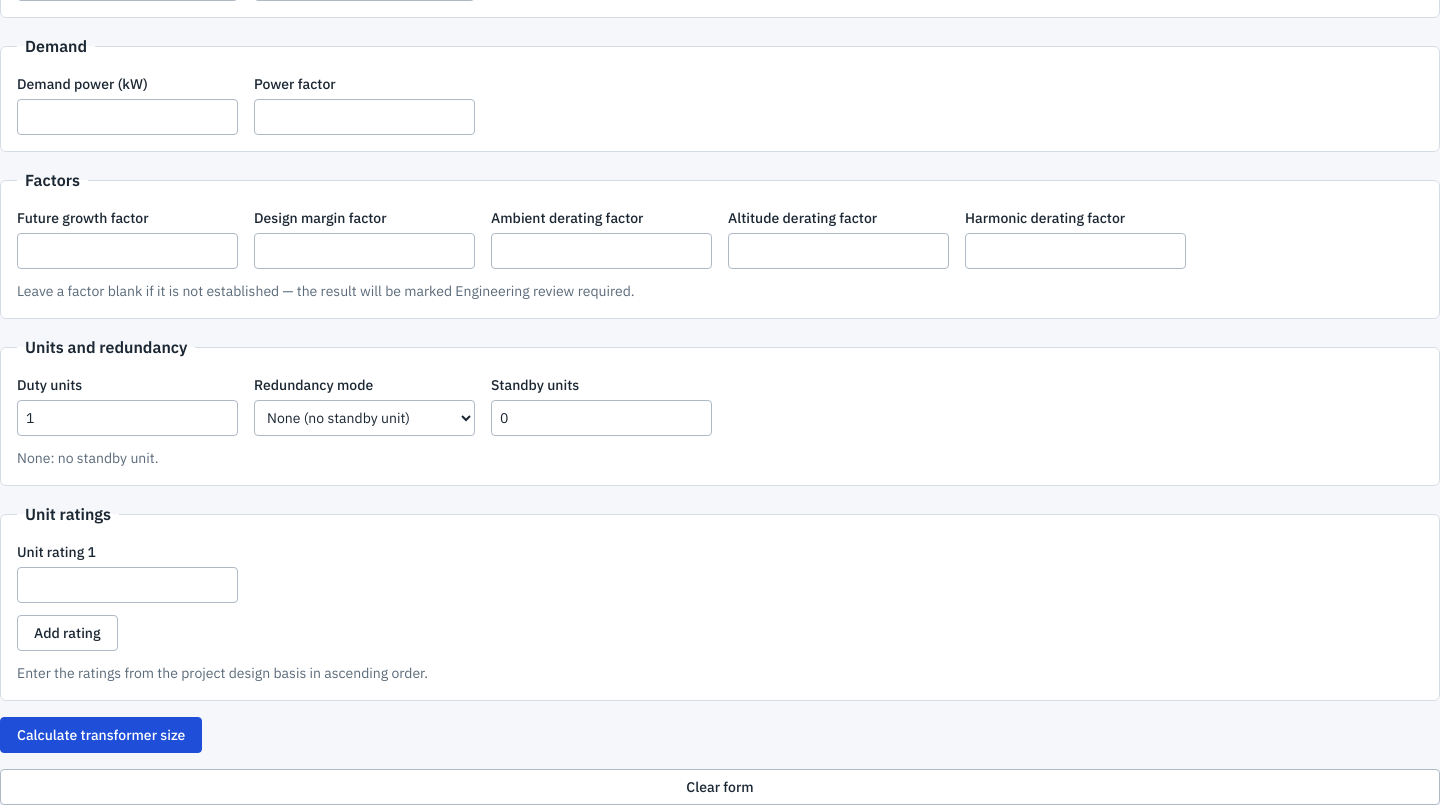
Test case: TransformerStudyForm › removes the entry the button names and hides Remove at one entry
This screenshot has width=1440, height=805.
(page scrolled)
Click the button "Add rating" at [67, 633], box [17,615,118,651]
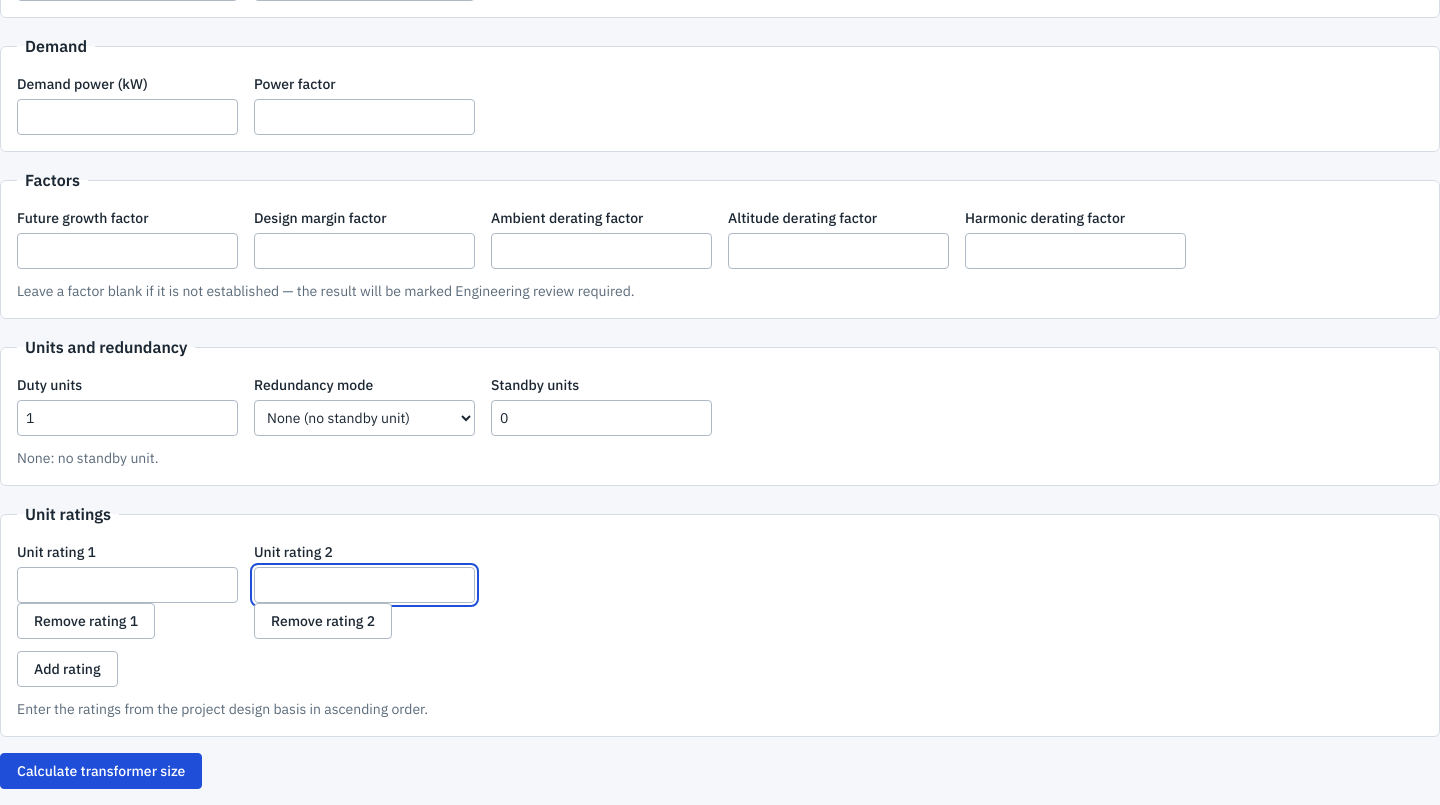
Type "FIRST" into the field labelled "Unit rating 1" at [128, 585], box [17,567,238,603]
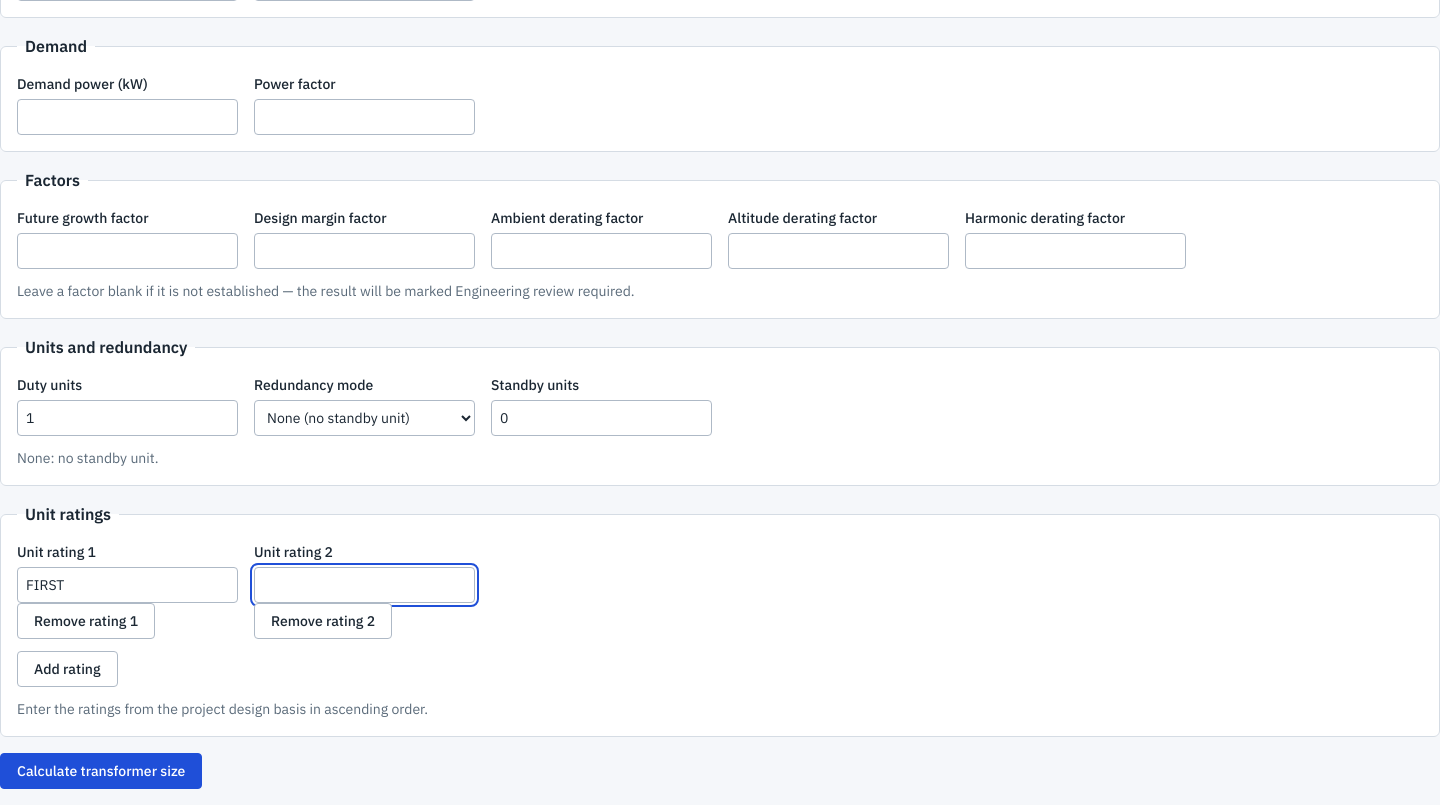
Type "SECOND" into the field labelled "Unit rating 2" at [364, 585], box [254,567,475,603]
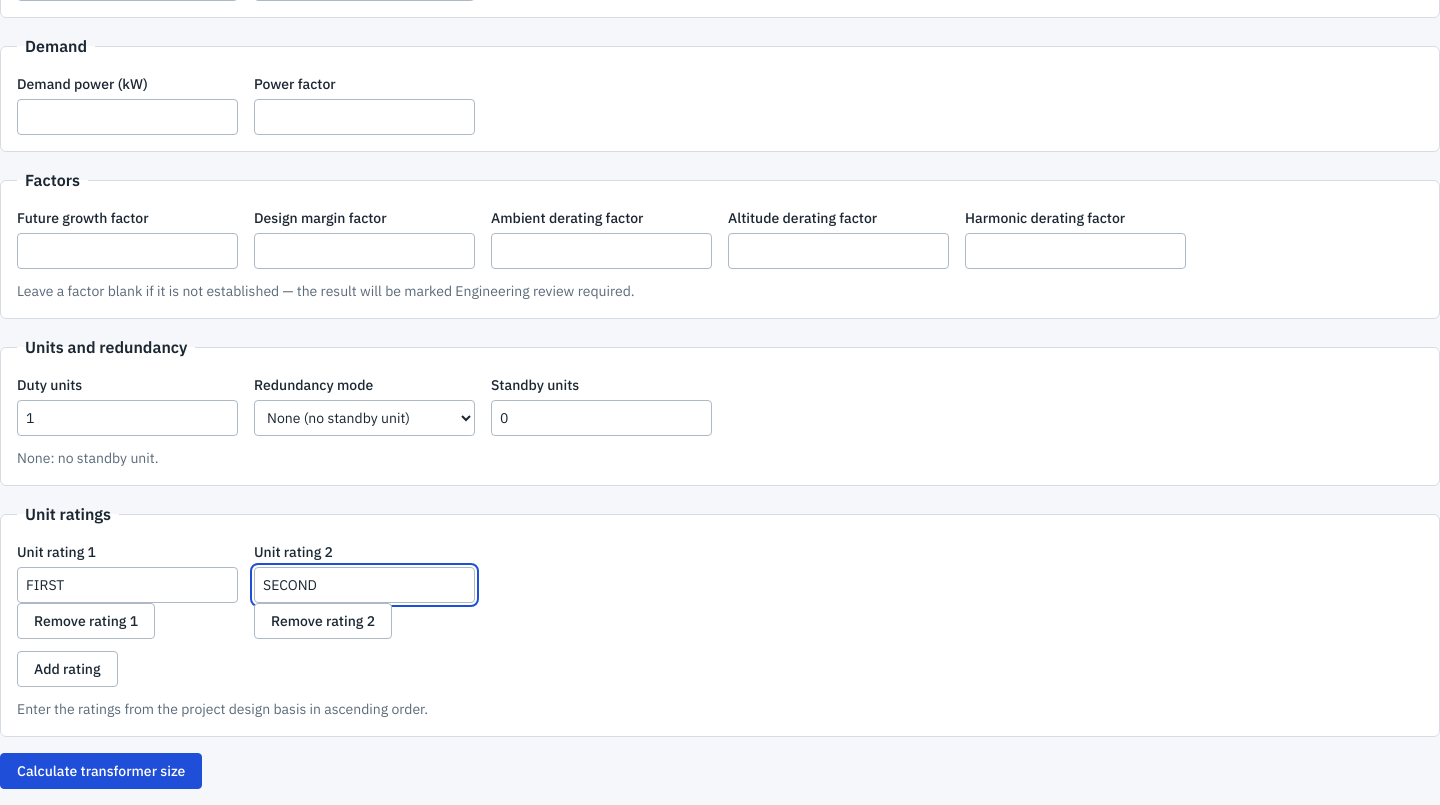
Click the button "Remove rating 1" at [86, 621], box [17,603,155,639]
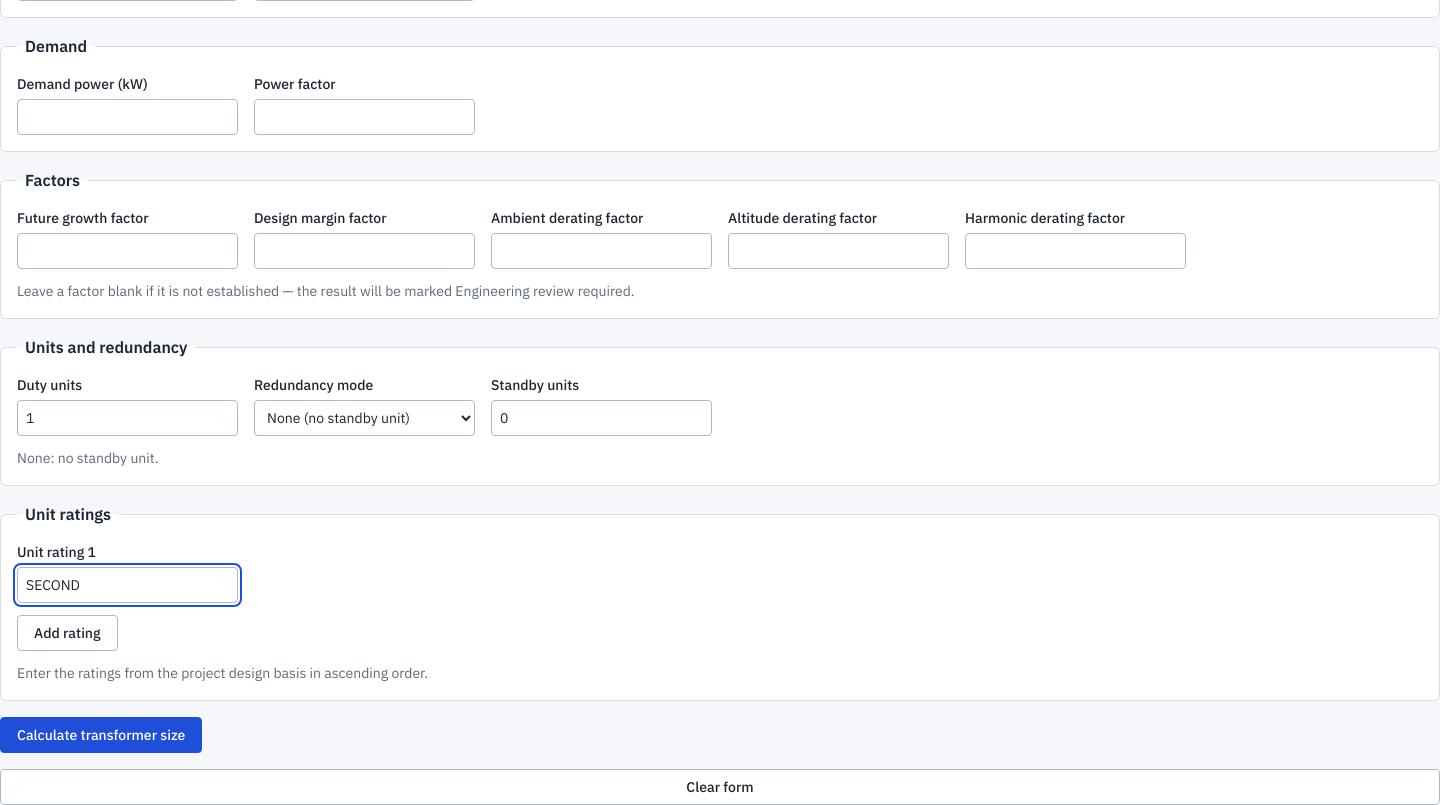
expect the button "Remove rating 1" is gone: met
